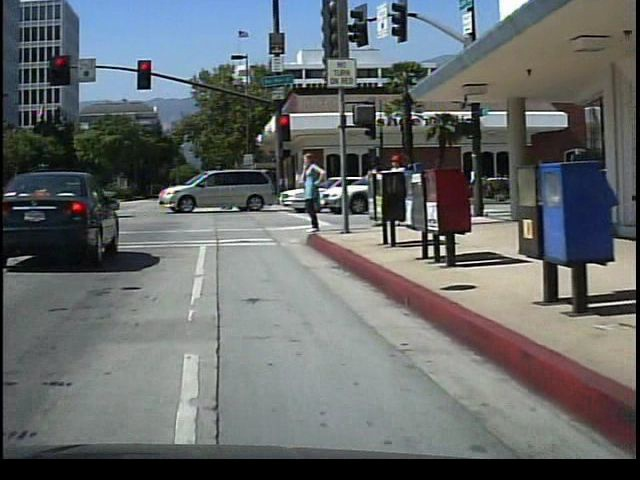person: (295, 147, 327, 237), (384, 149, 413, 230), (357, 149, 381, 222)
